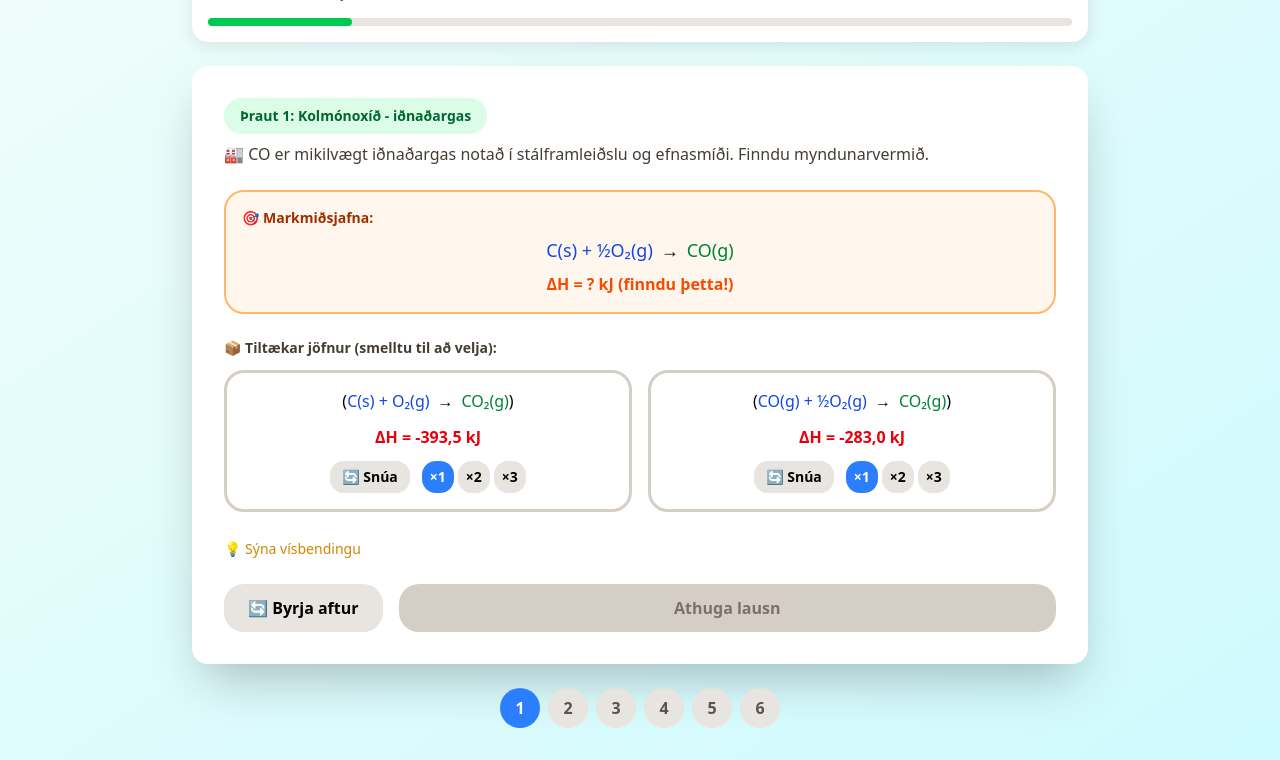
Test: hess-law level 2 grading › accepts the combination that builds the target equation
(page scrolled)
Click the button "5" at (712,708), box [692, 688, 732, 728]
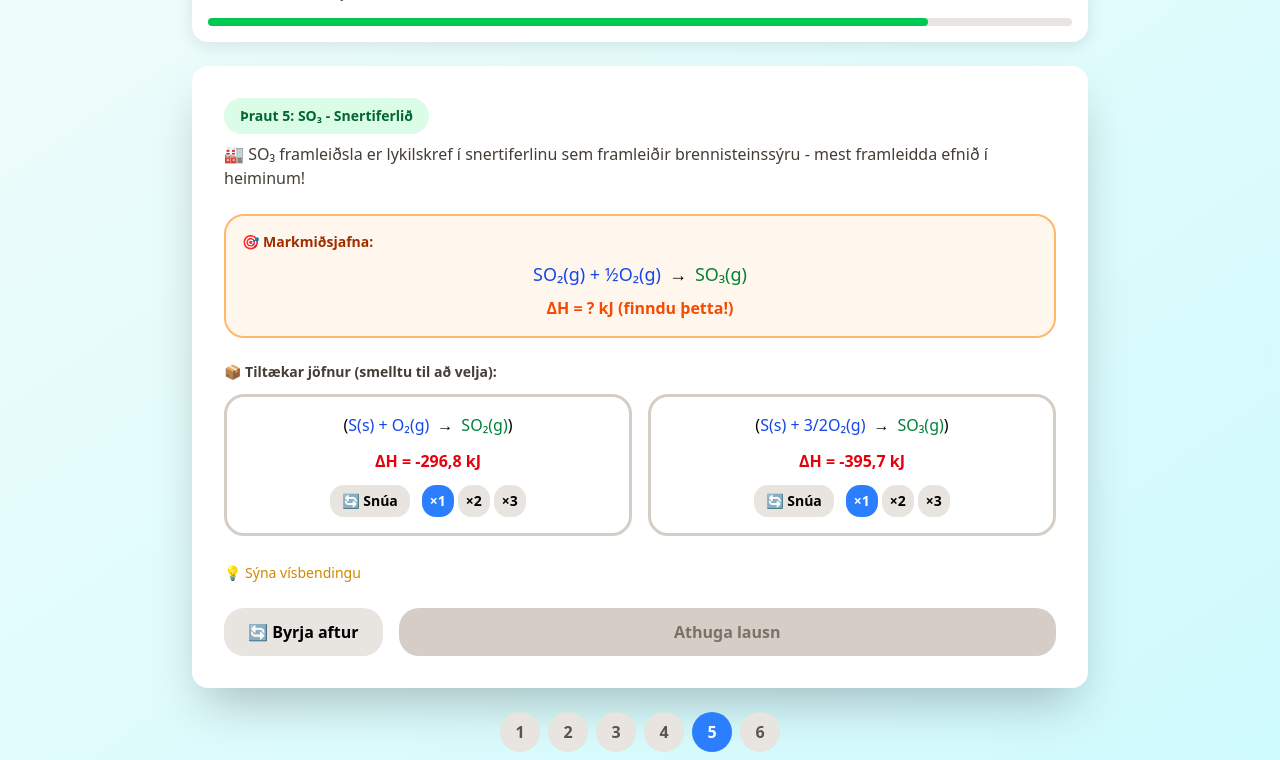
Click the button with aria-label "Snúa við jöfnu" at (370,501), box [330, 485, 410, 517]
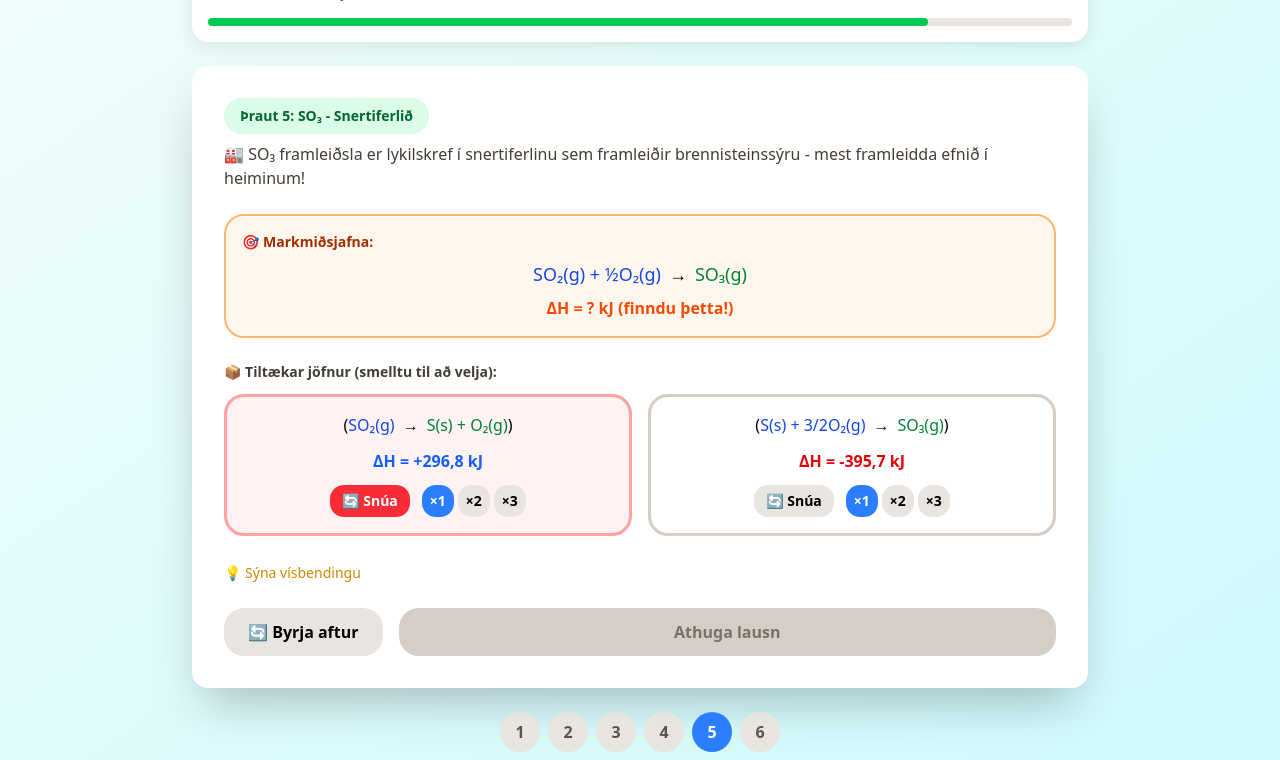
Click the element showing "(SO₂(g)→S(s) + O₂(g)) ΔH = +296,8 kJ 🔄 Snúa ×1 ×2 ×3" at (428,465), box [224, 394, 632, 536]
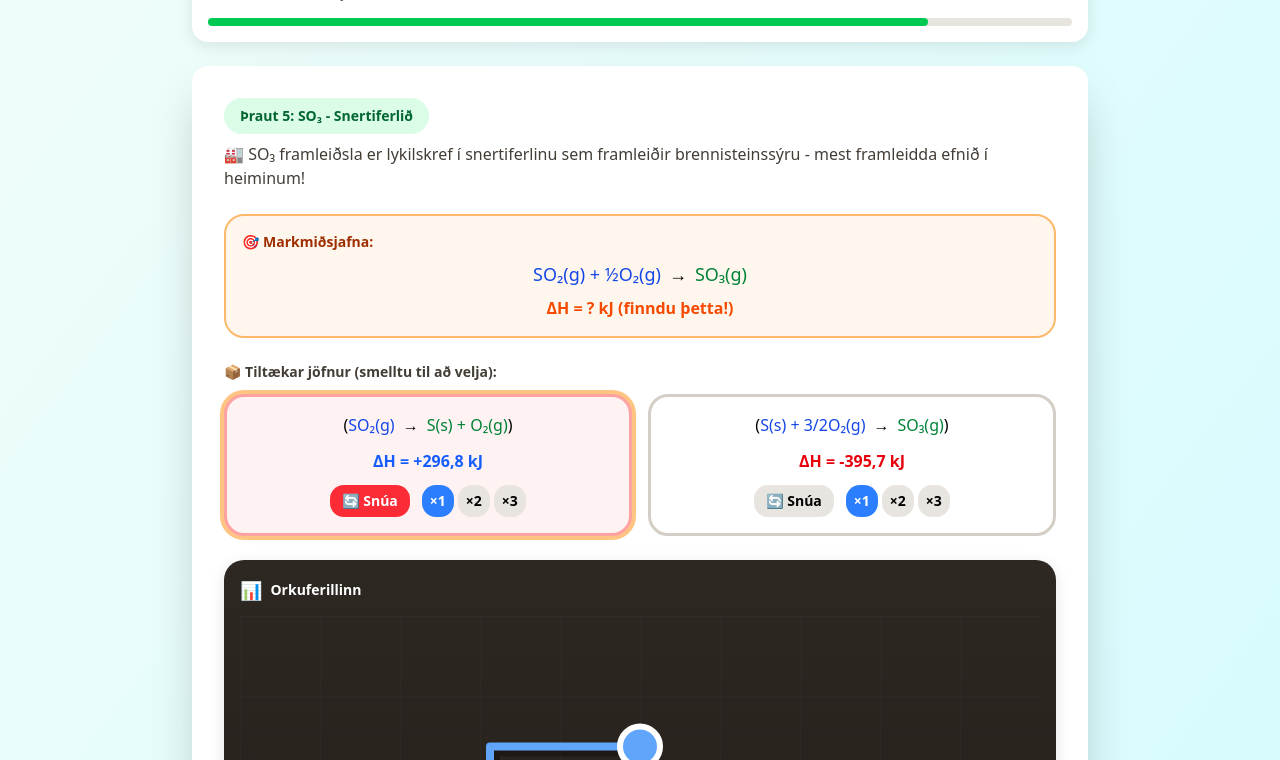
Click the element showing "(S(s) + 3/2O₂(g)→SO₃(g)) ΔH = -395,7 kJ 🔄 Snúa ×1 ×2 ×3" at (852,465), box [648, 394, 1056, 536]
(page scrolled)
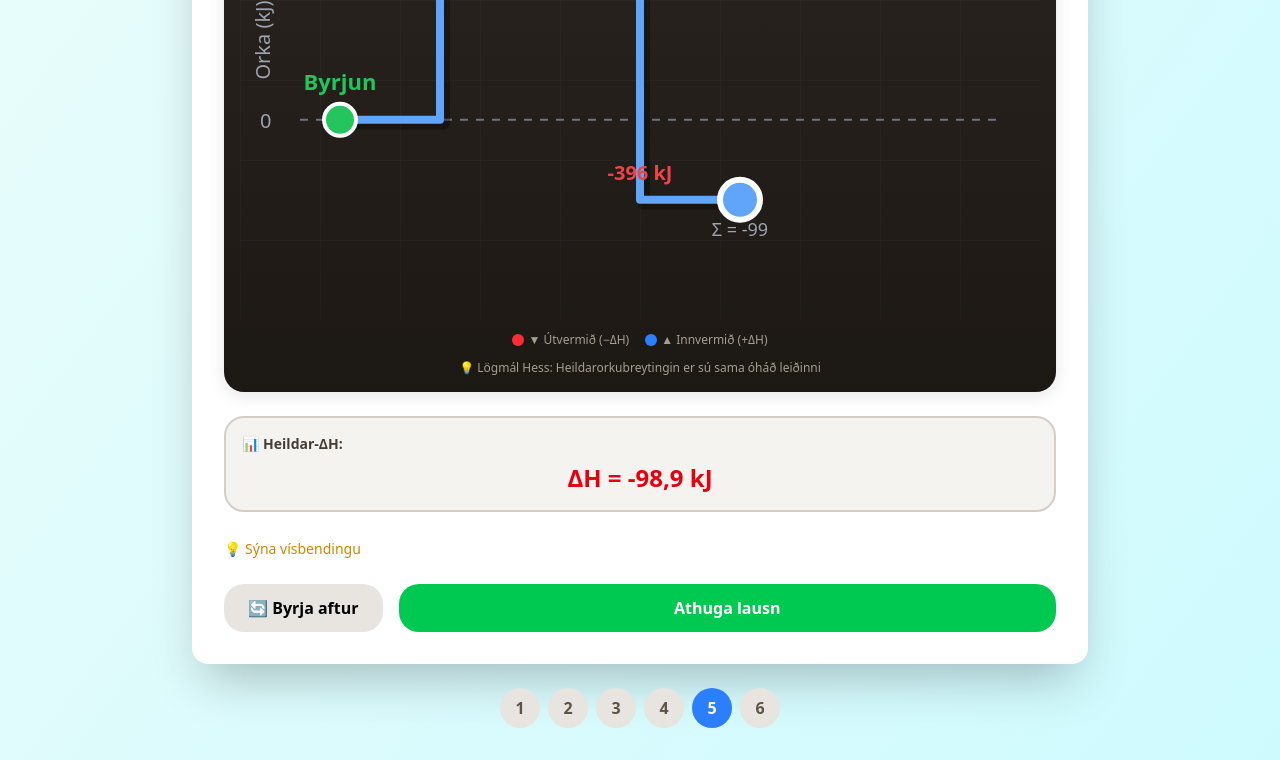
Click the button "Athuga lausn" at (727,608), box [398, 584, 1056, 632]
(page scrolled)
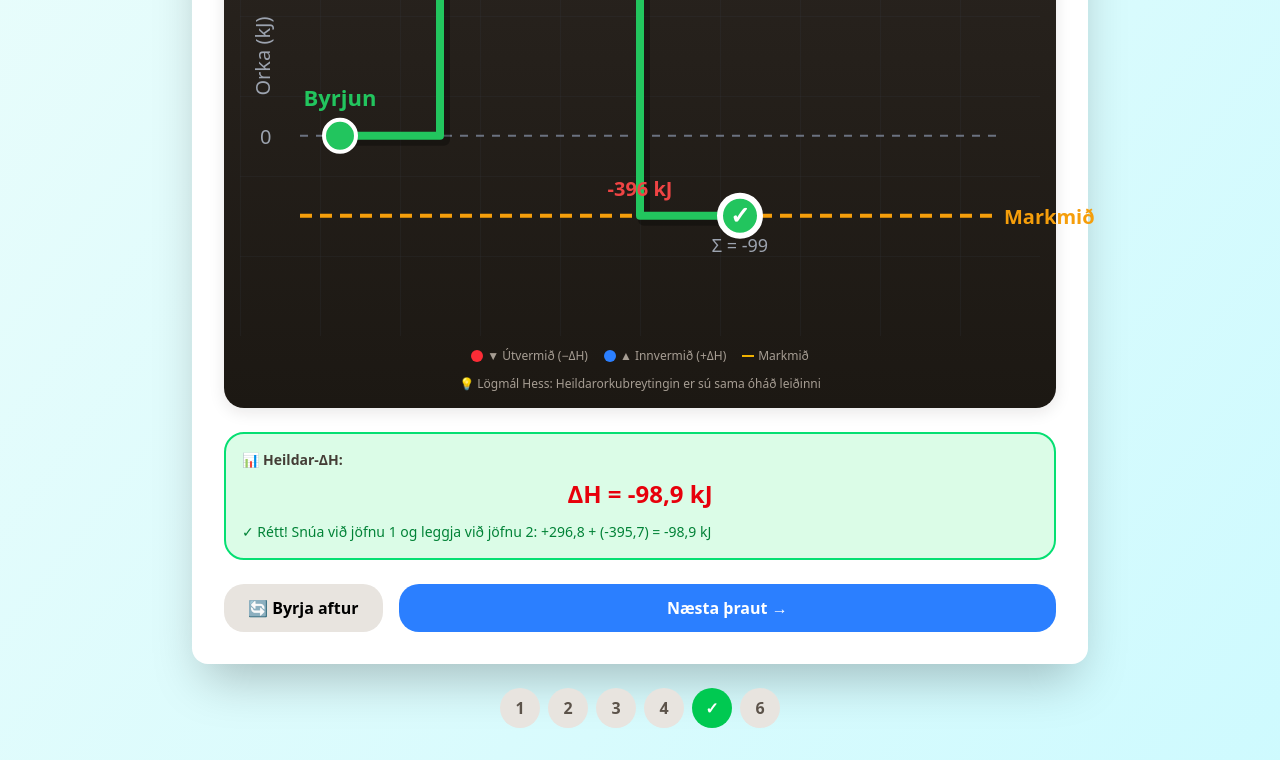
Expected: the text "✓ Rétt!" is shown, [242, 522, 288, 541]
Expected: the text "+296,8 + (-395,7) = -98,9 kJ" is shown, [292, 522, 711, 541]
